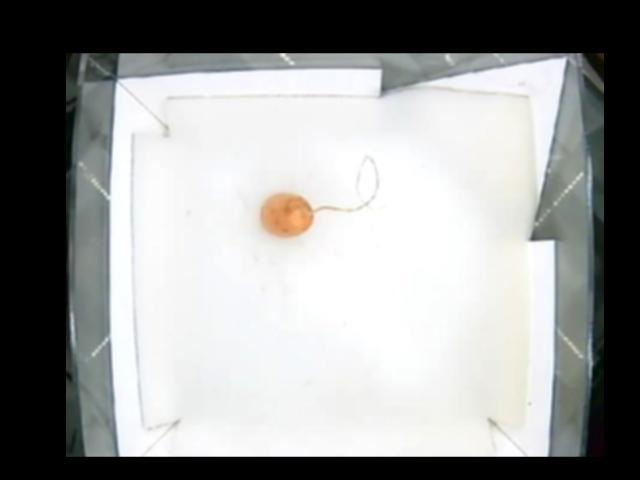Carrot: (260, 188, 317, 236)
